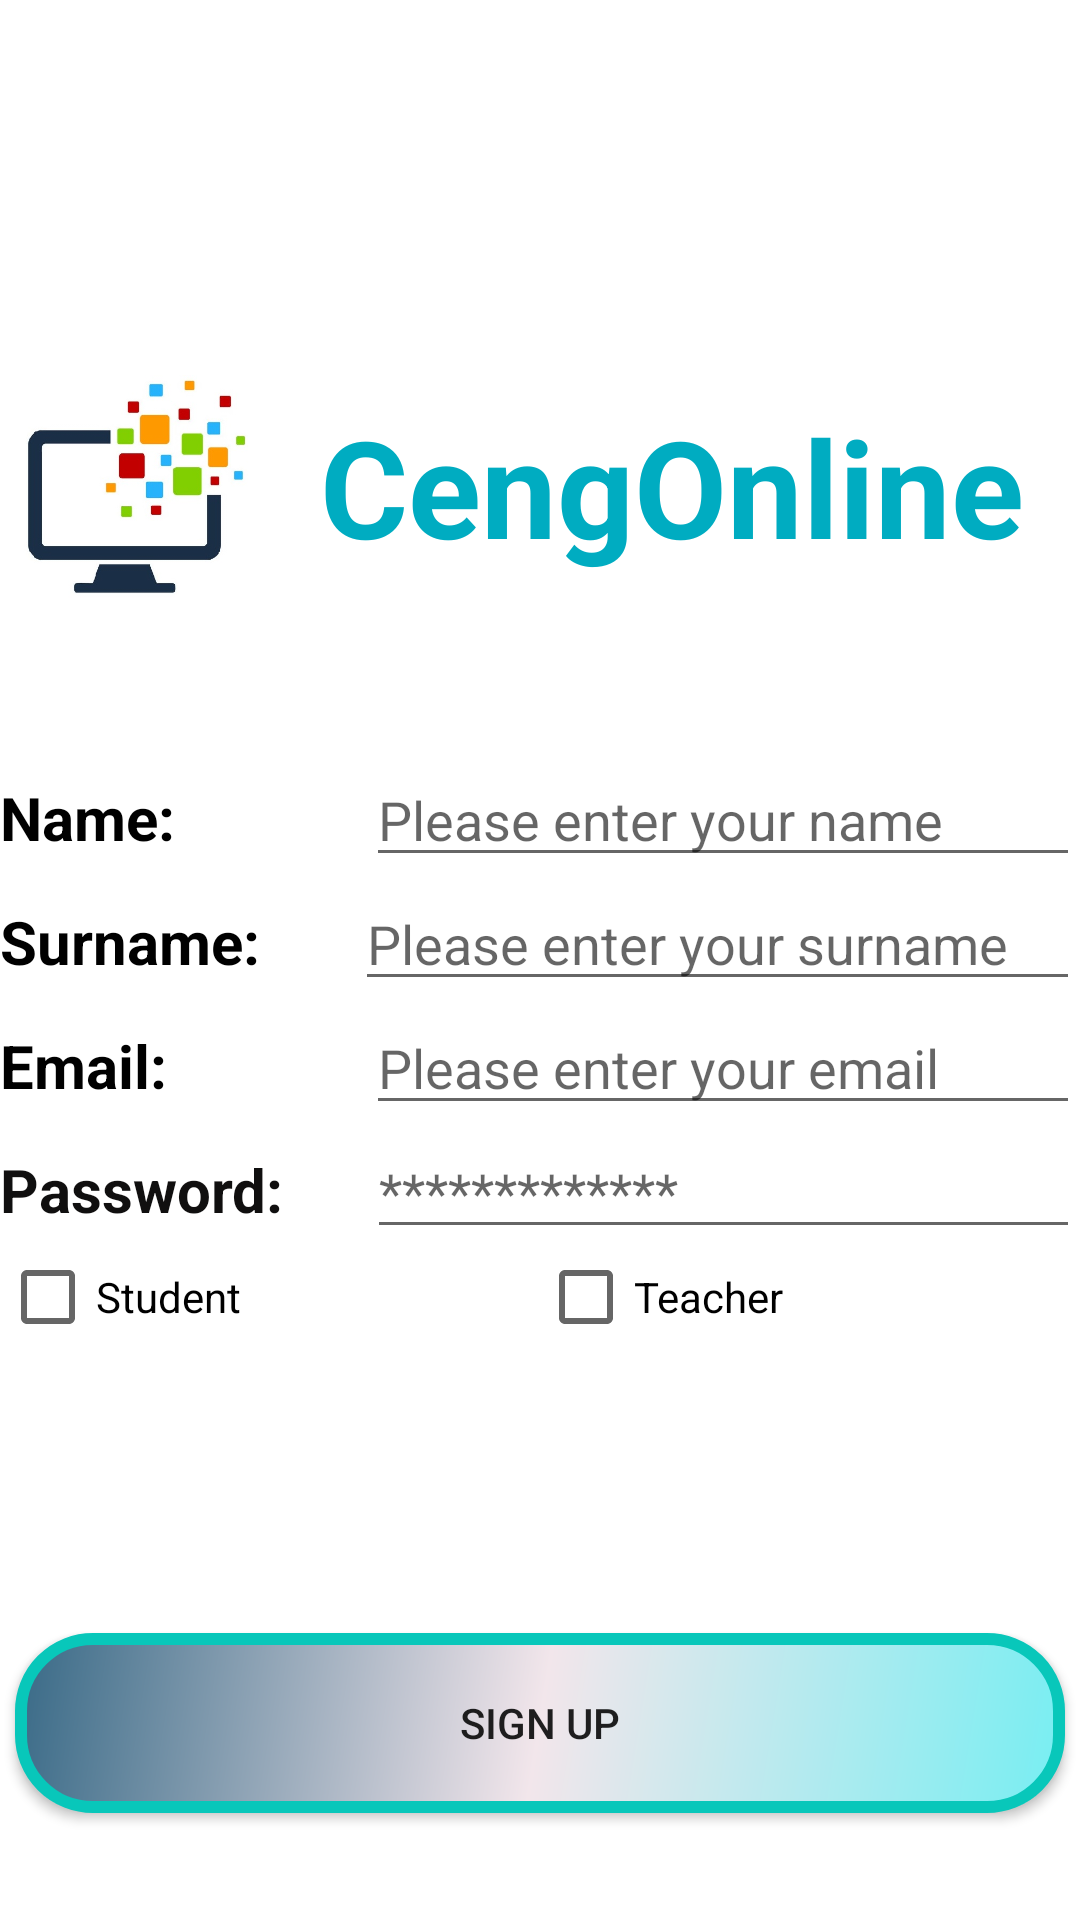

Icon click points for this 1080x1920 phone screenshot, format (x=x, y=y):
computer: (x=137, y=486)
